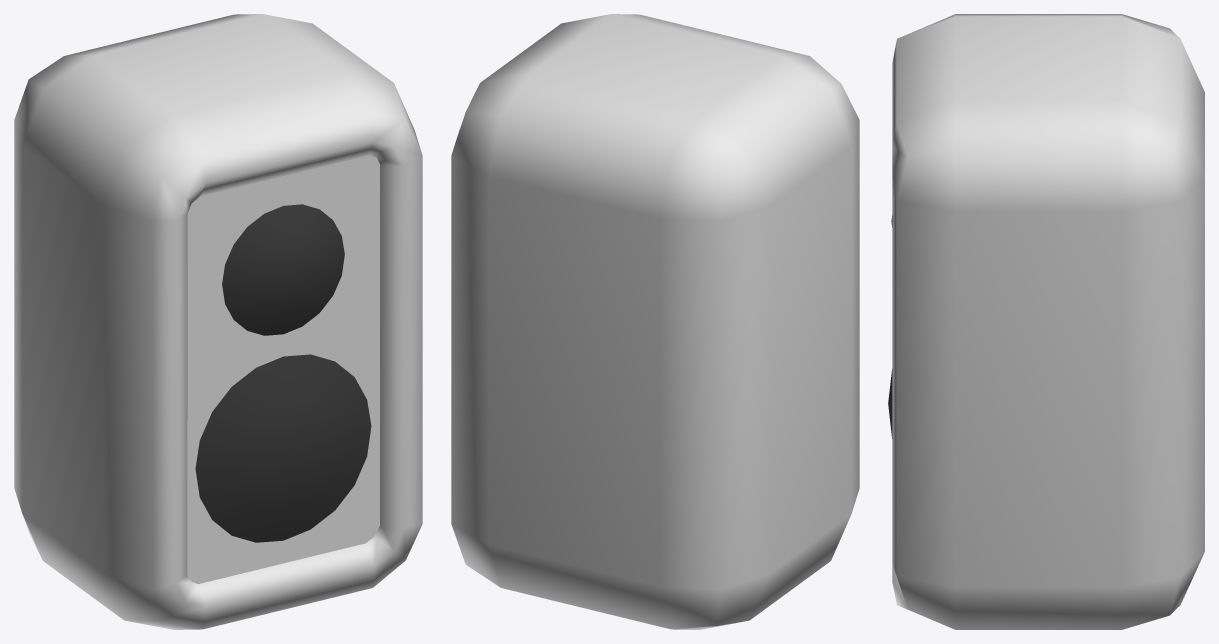
File: speaker.glb
3 renders of one model, left to right at view 1: azimuth 30°, elevation 25°; view 2: azimuth 150°, elevation 25°; view 3: azimuth 270°, elevation 25°, orthographic. The views are drawn at different scales.
Parts seen in each view (by area): view 1: Speaker; view 2: Speaker; view 3: Speaker.
Boxes of the visible parts, bbox=[...] form: Speaker: bbox=[14, 14, 422, 629]; Speaker: bbox=[451, 14, 859, 629]; Speaker: bbox=[888, 14, 1204, 629].
Size of the model in its own units: 0.1906 by 0.3016 by 0.1647.
1 material, 1 textured.
